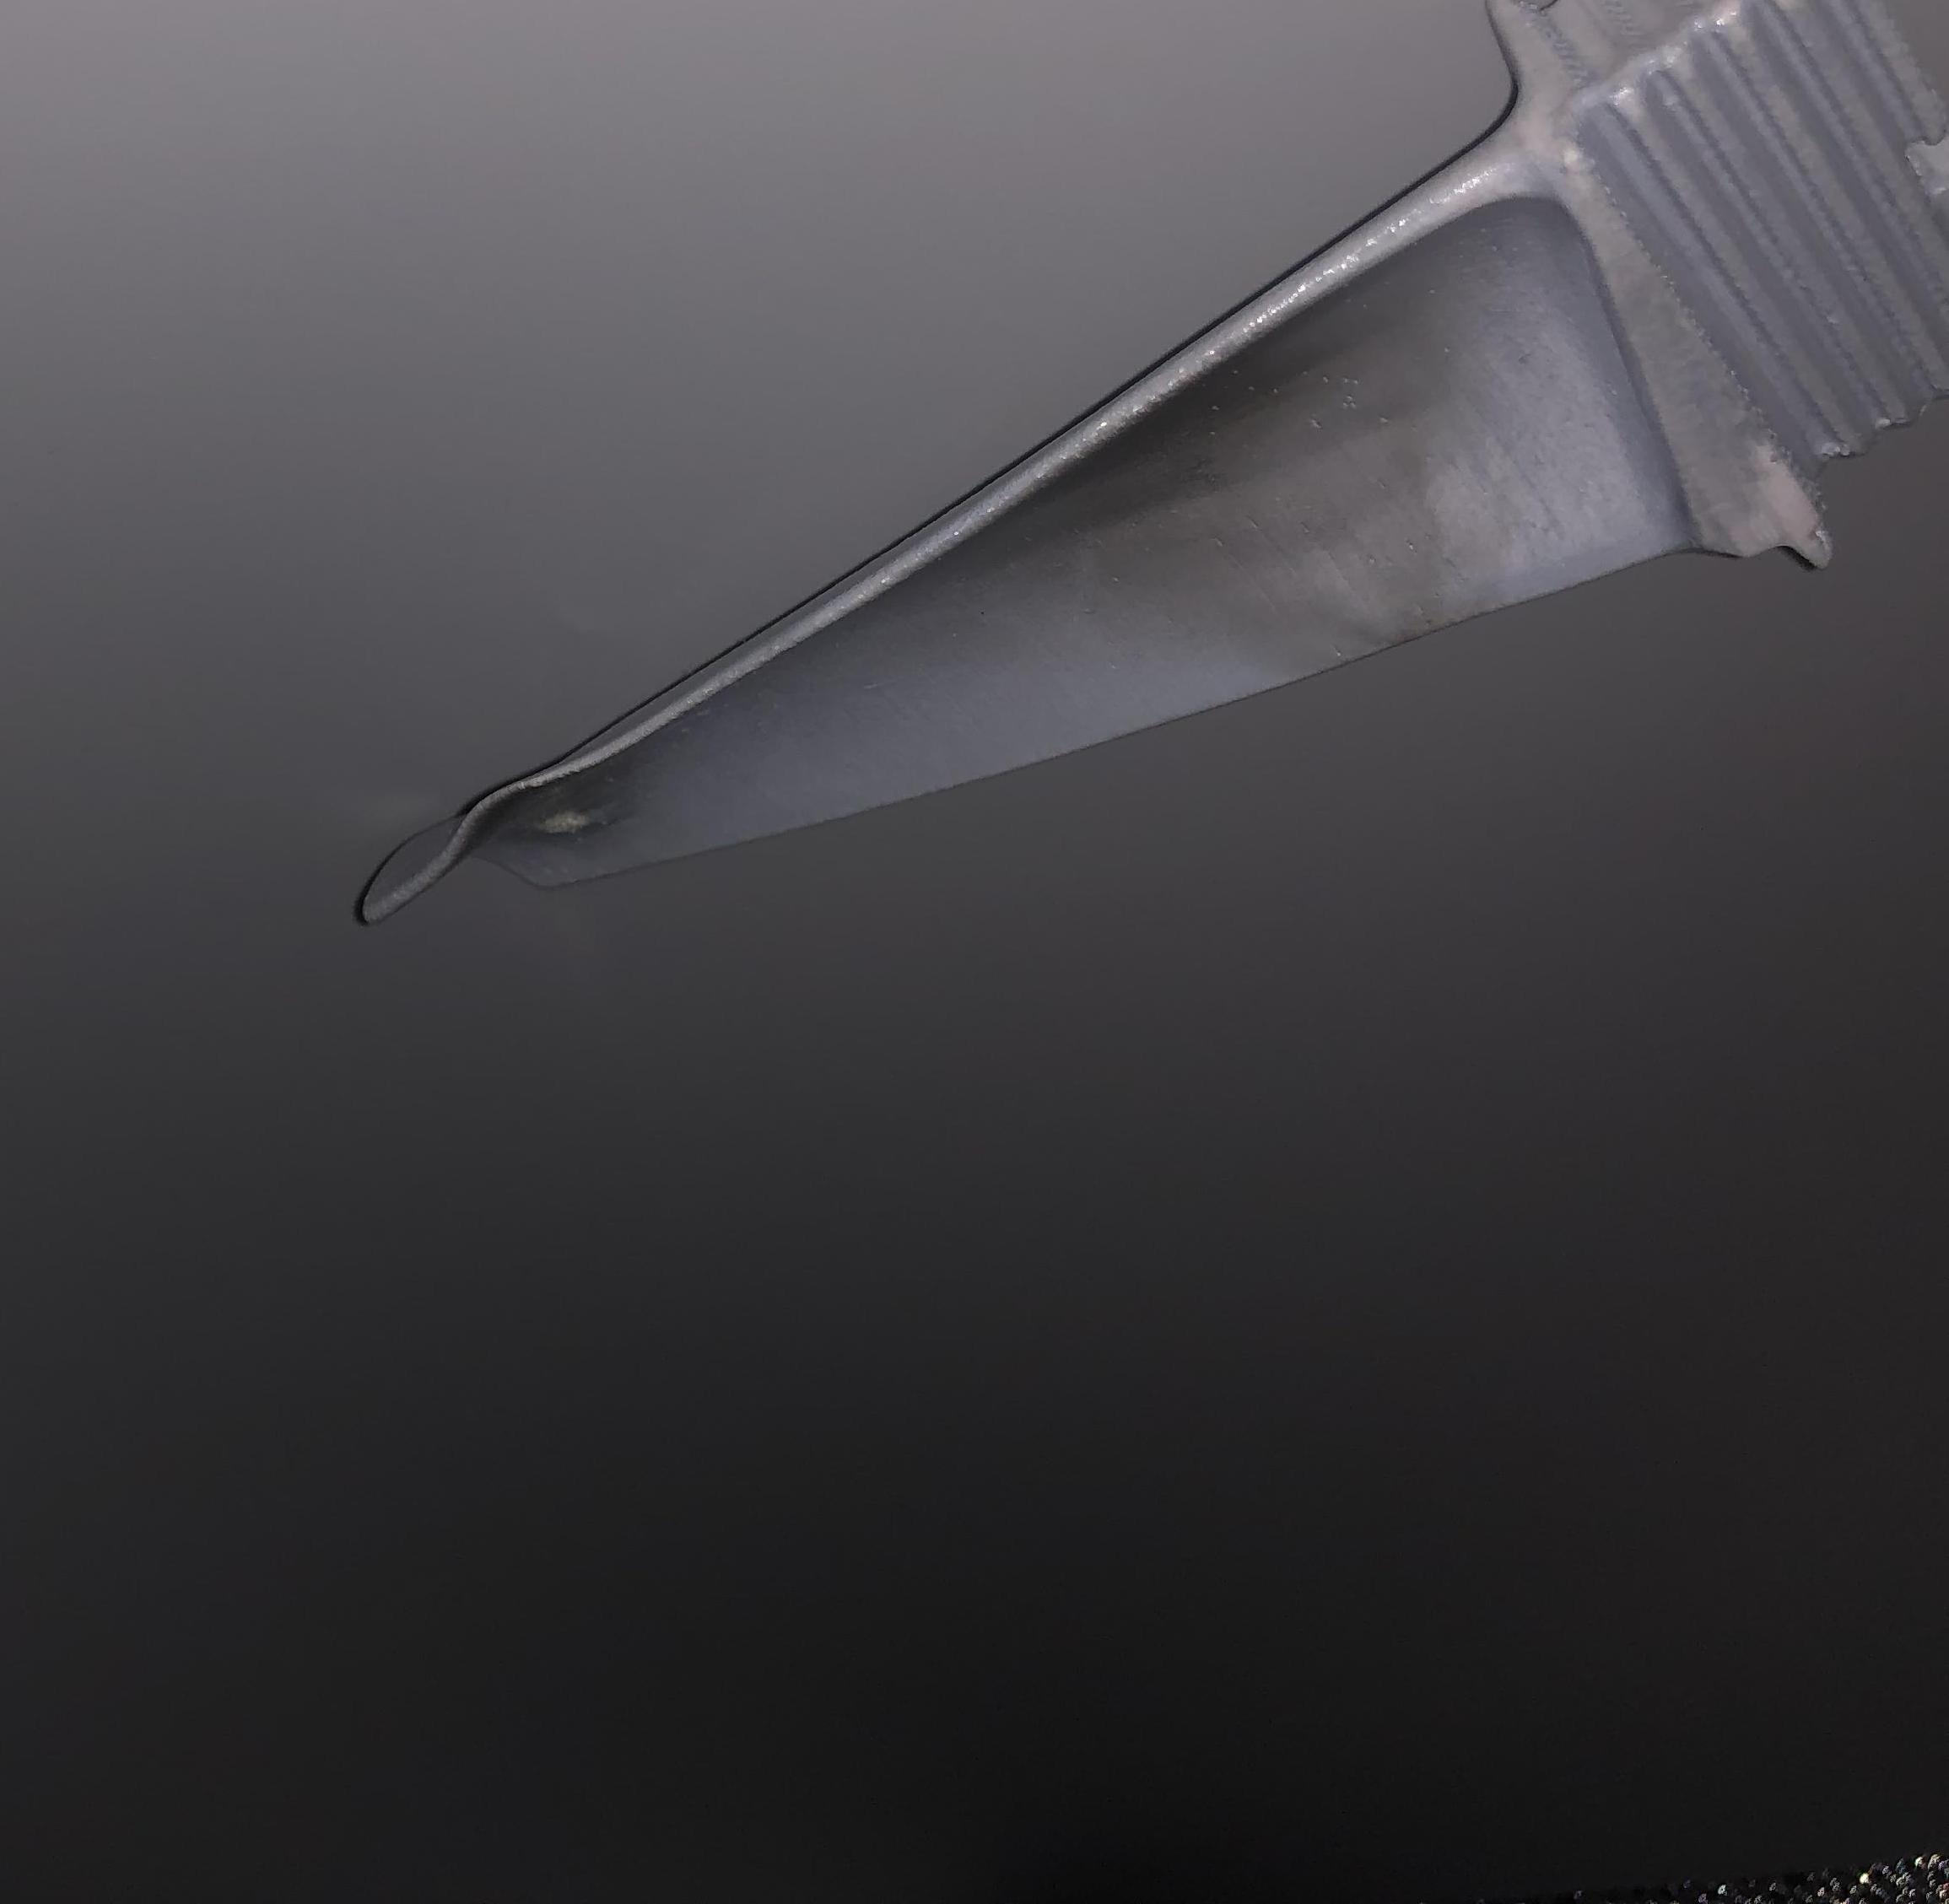ablation: (1074, 399, 1464, 582), (476, 785, 666, 854)
